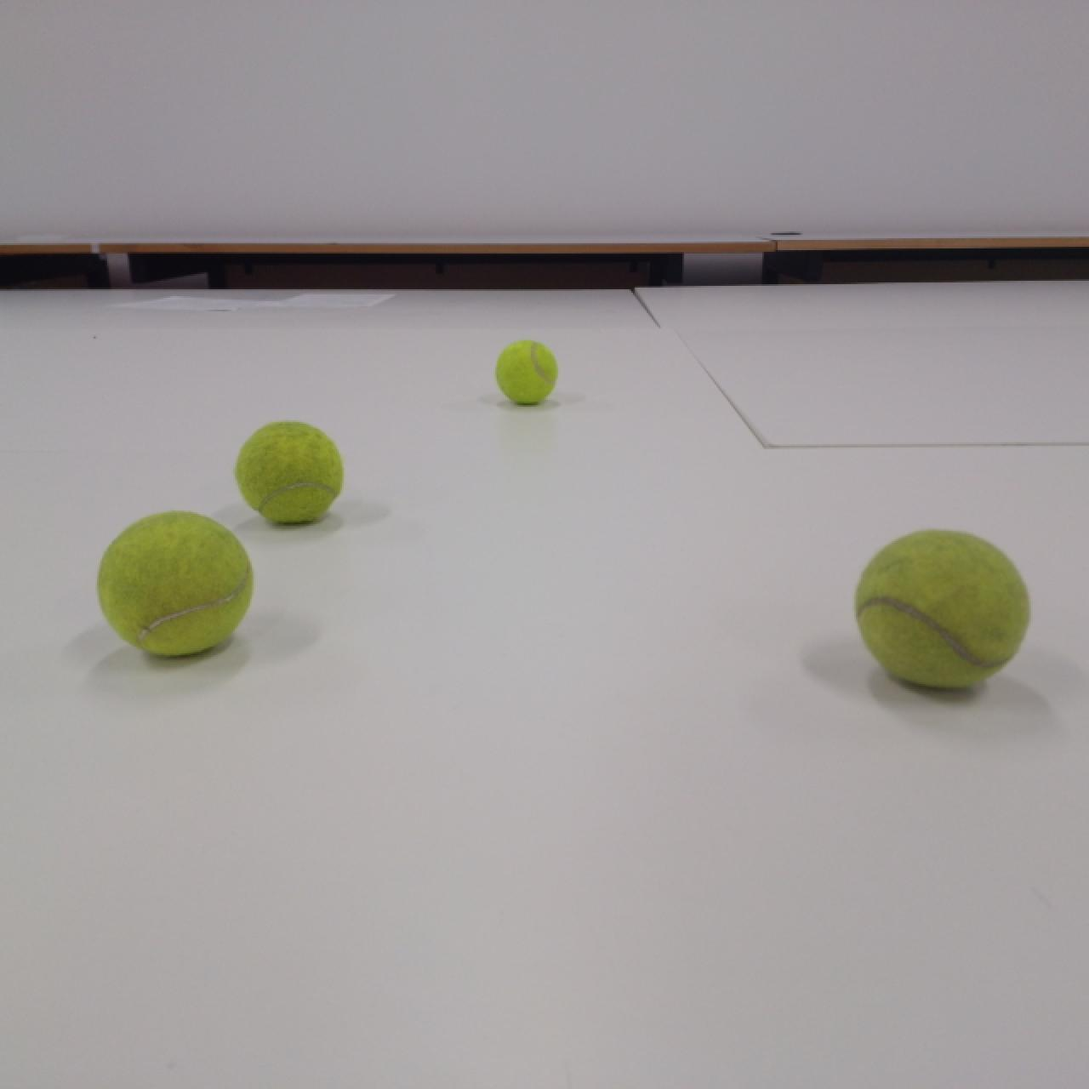tennis-ball: (851, 523, 1032, 691), (96, 509, 254, 661), (234, 418, 345, 527), (493, 336, 560, 405)
